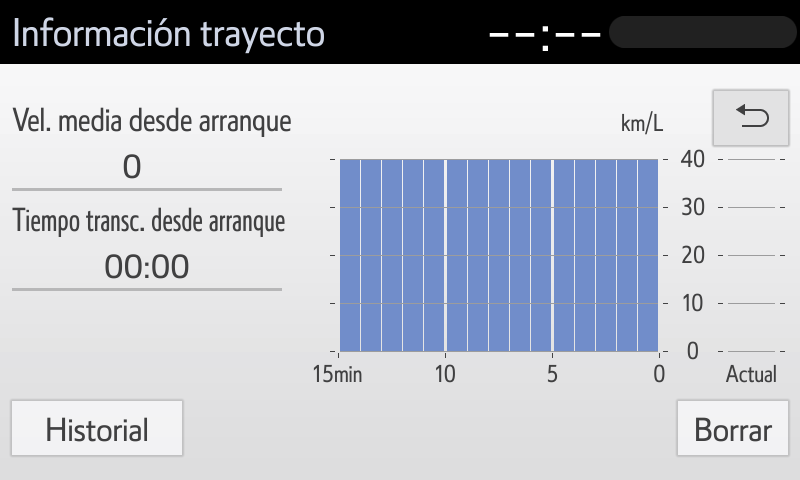touchPart: (7, 398, 189, 464), (671, 397, 793, 458)
untouchPart: (312, 101, 705, 389), (3, 95, 290, 309), (464, 6, 796, 52), (12, 9, 324, 56)
